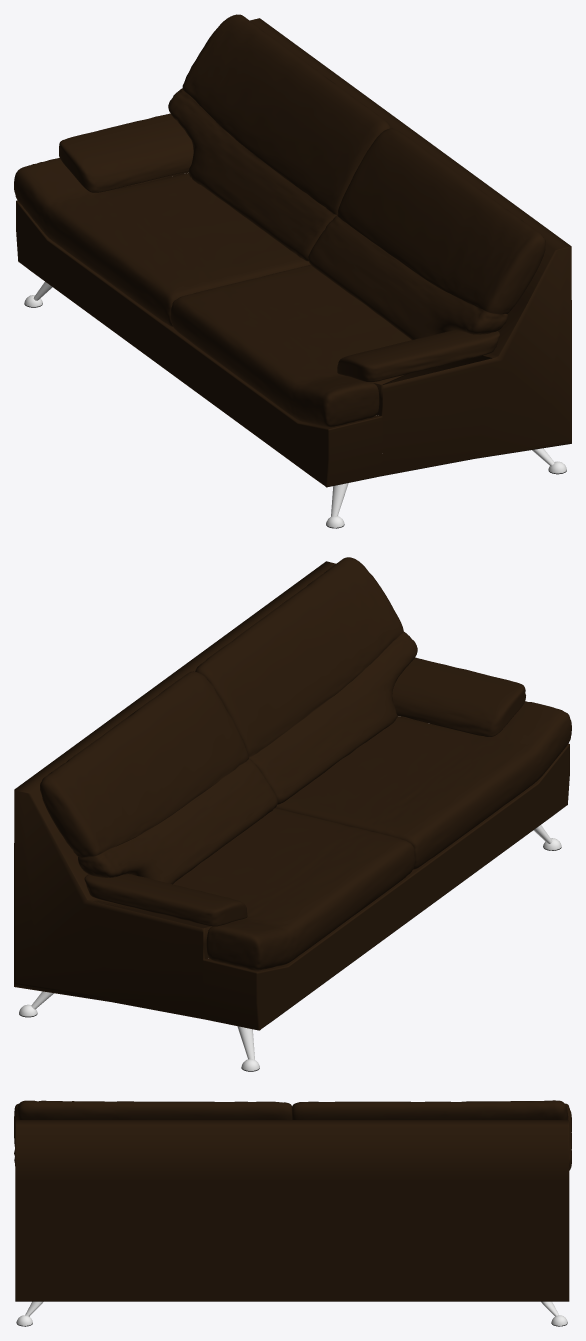
Rendered from couch.glb.
3 renders of one model, top to bottom at view 1: azimuth 30°, elevation 25°; view 2: azimuth 150°, elevation 25°; view 3: azimuth 270°, elevation 25°, orthographic. The views are drawn at different scales.
Visible parts, largest first — view 1: espaldar sofa, sofa-base, sofa-cojin, sofa-brazos; view 2: espaldar sofa, sofa-base, sofa-cojin, sofa-brazos; view 3: sofa-base, espaldar sofa.
Boxes of the visible parts, x1,y1,x2,y2 form: espaldar sofa: (168, 14, 545, 339); sofa-base: (16, 18, 571, 528); sofa-cojin: (14, 158, 411, 427); sofa-brazos: (59, 113, 499, 381); espaldar sofa: (40, 557, 417, 884); sofa-base: (14, 561, 569, 1071); sofa-cojin: (173, 701, 571, 970); sofa-brazos: (84, 657, 525, 926); sofa-base: (15, 1120, 569, 1326); espaldar sofa: (16, 1100, 568, 1119).
Bounding box in the file's own units: 91.24 × 84.87 × 201.
